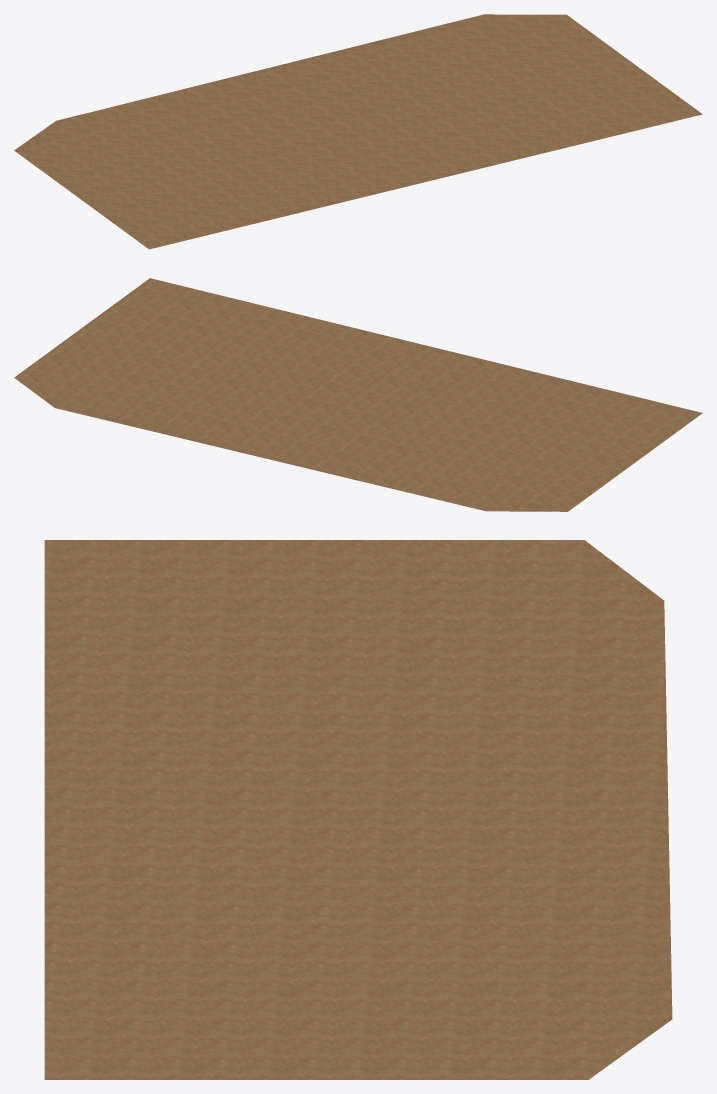
The model's file is guchengqishituan_qiangzhuan_05.FBX.
3 renders of one model, top to bottom at view 1: azimuth 30°, elevation 25°; view 2: azimuth 150°, elevation 25°; view 3: azimuth 270°, elevation 25°, orthographic. The views are drawn at different scales.
Parts seen in each view (by area): view 1: guchengqishituan_qiangzhuan_5; view 2: guchengqishituan_qiangzhuan_5; view 3: guchengqishituan_qiangzhuan_5.
Part boxes in pixels (box(x1,y1,x2,y2)): guchengqishituan_qiangzhuan_5: box(14, 14, 702, 249); guchengqishituan_qiangzhuan_5: box(14, 278, 702, 511); guchengqishituan_qiangzhuan_5: box(44, 540, 672, 1079).
Bounding box in the file's own units: 5457 × 4.67e-05 × 2683.
